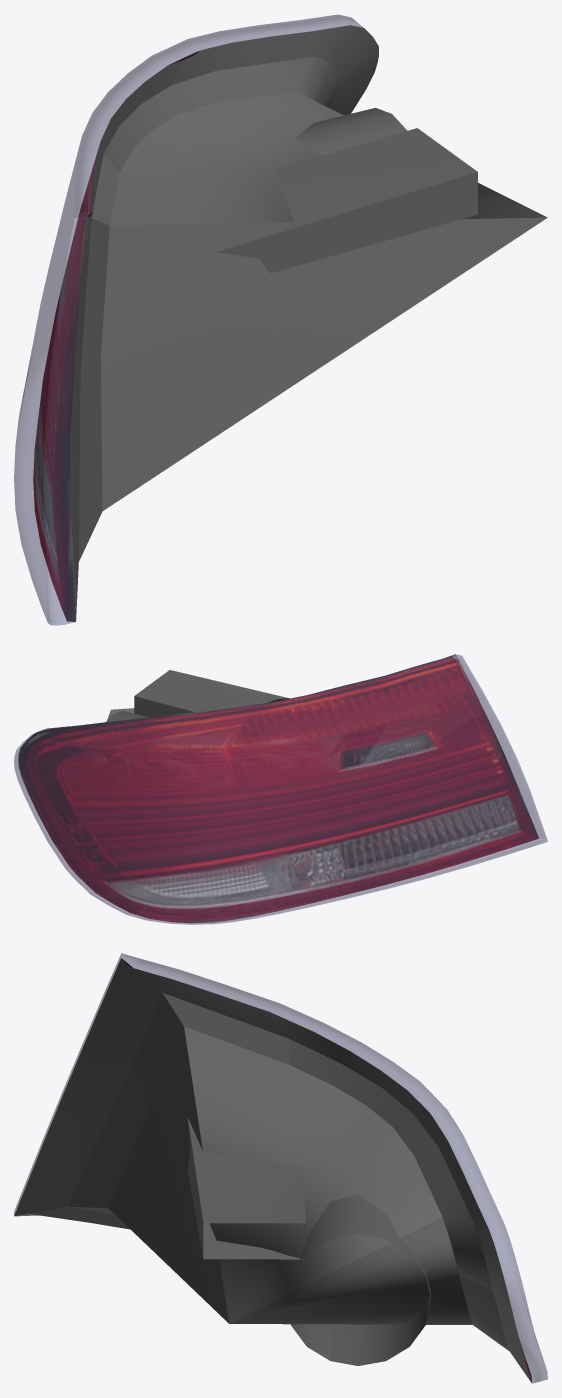
3 renders of one model, top to bottom at view 1: azimuth 30°, elevation 25°; view 2: azimuth 150°, elevation 25°; view 3: azimuth 270°, elevation 25°, orthographic. The views are drawn at different scales.
Parts seen in each view (by area): view 1: _4136_17_541C_L__4136_17_541C_L_3_D, _4136_17_541C_L__4136_17_541C_L_1_DTaSI, _4136_17_541C_L_2_D__4136_17_541C_L; view 2: _4136_17_541C_L__4136_17_541C_L_1_DTaSI, _4136_17_541C_L_2_D__4136_17_541C_L, _4136_17_541C_L__4136_17_541C_L_3_D; view 3: _4136_17_541C_L__4136_17_541C_L_3_D, _4136_17_541C_L__4136_17_541C_L_1_DTaSI.
Part boxes in pixels (left/top/right/bottom): _4136_17_541C_L__4136_17_541C_L_3_D: left=70, top=25, right=547, bottom=620; _4136_17_541C_L__4136_17_541C_L_1_DTaSI: left=14, top=14, right=362, bottom=625; _4136_17_541C_L_2_D__4136_17_541C_L: left=33, top=50, right=200, bottom=621; _4136_17_541C_L__4136_17_541C_L_1_DTaSI: left=14, top=654, right=547, bottom=924; _4136_17_541C_L_2_D__4136_17_541C_L: left=18, top=654, right=538, bottom=923; _4136_17_541C_L__4136_17_541C_L_3_D: left=106, top=656, right=450, bottom=721; _4136_17_541C_L__4136_17_541C_L_3_D: left=14, top=959, right=531, bottom=1382; _4136_17_541C_L__4136_17_541C_L_1_DTaSI: left=14, top=953, right=547, bottom=1383.
Bounding box in the file's own units: 32.04 × 17.11 × 28.15.
